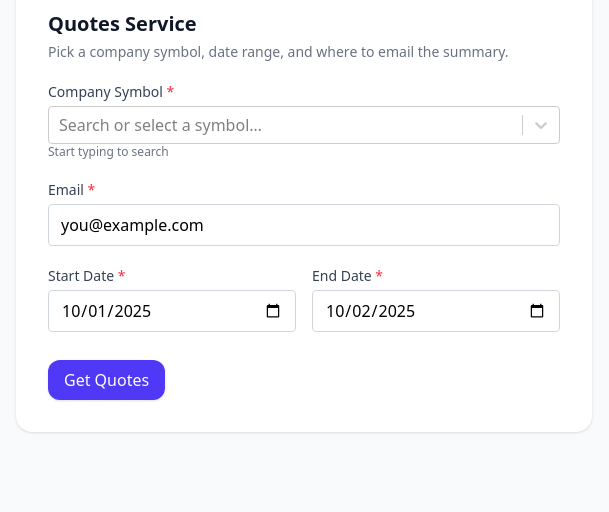
it: server 404 maps to symbol field error
Click the button "Get Quotes" at (107, 380), box [48,360,165,400]
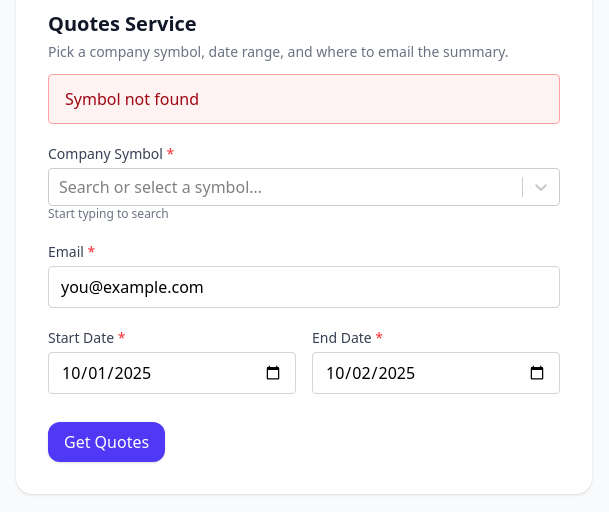
Now the message reads "Symbol not found", box [65,88,199,110]
